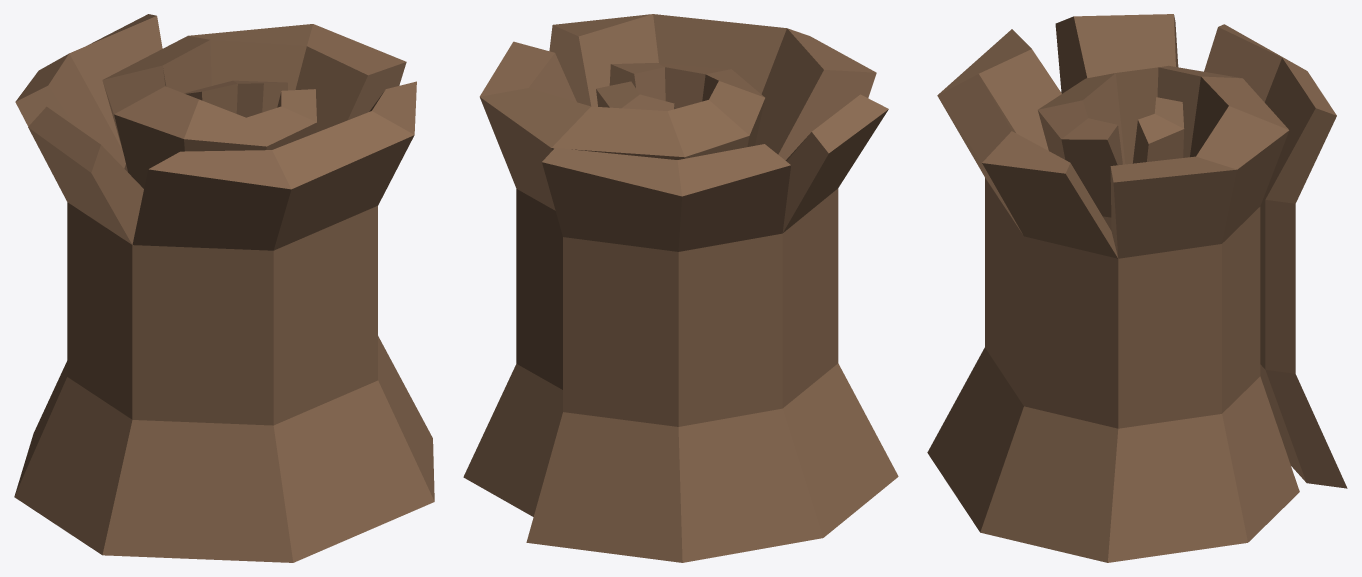
File: Ending point for fox.fbx
3 views of the same model, side by side, from view 1: azimuth 30°, elevation 25°; view 2: azimuth 150°, elevation 25°; view 3: azimuth 270°, elevation 25° (orthographic). The views are drawn at different scales.
Parts seen in each view (by area): view 1: Plane.001; view 2: Plane.001; view 3: Plane.001.
Part boxes in pixels (<box>): Plane.001: <box>14,14,434,562</box>; Plane.001: <box>463,14,898,562</box>; Plane.001: <box>927,14,1347,562</box>.
Bounding box in the file's own units: 194 × 194 × 194.
